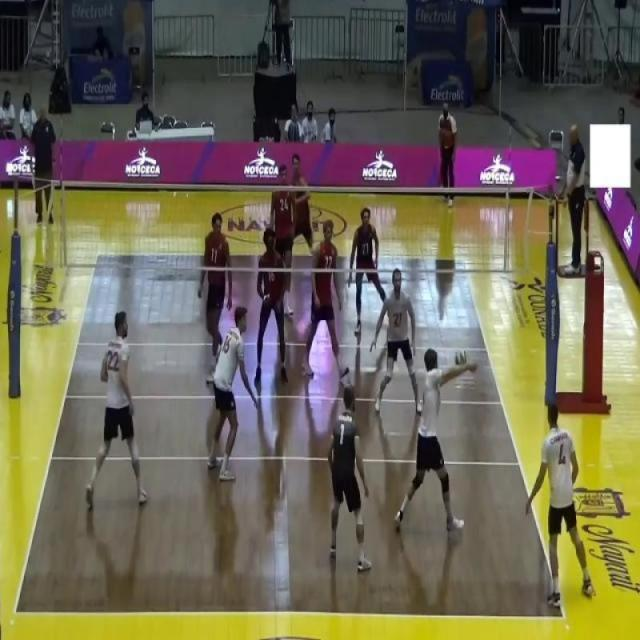volleyball: (454, 350, 466, 366)
